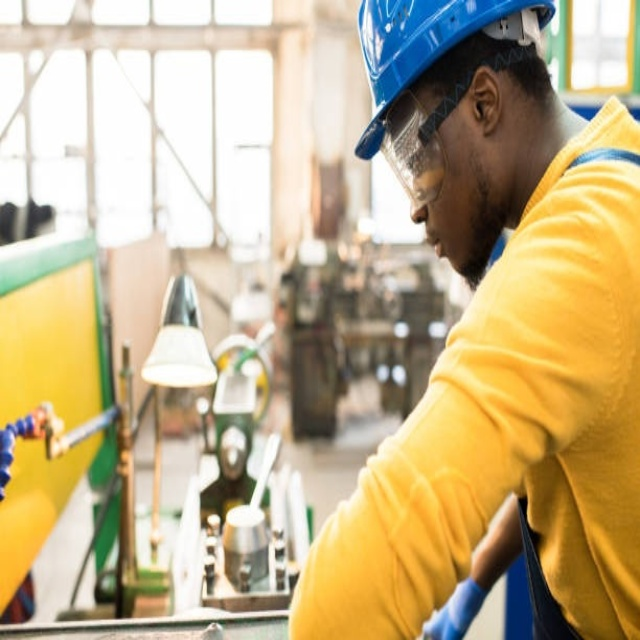Gafas: (376, 82, 453, 207)
Sin_mascara: (421, 223, 470, 284)
